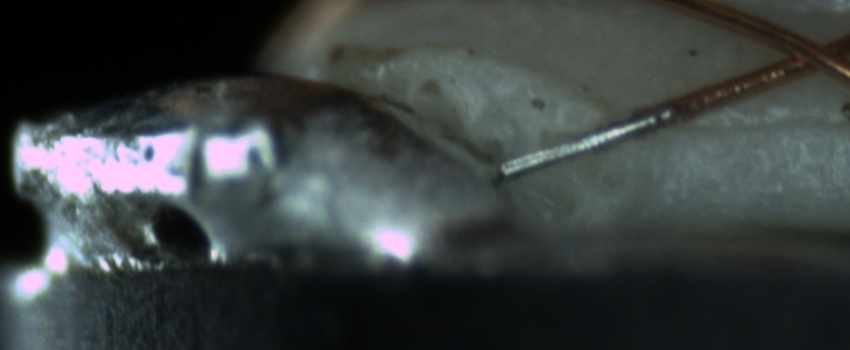CL: (762, 21, 847, 82)
DL: (660, 96, 850, 160)
TS: (492, 104, 674, 180)
